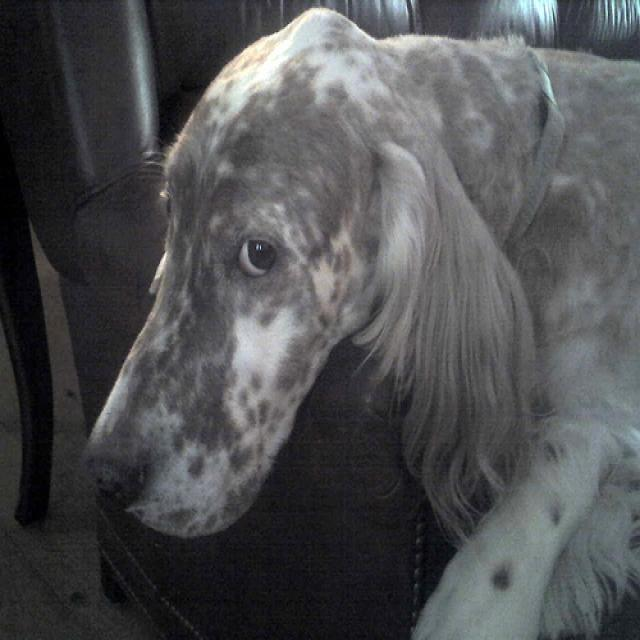dog-english_setter: (83, 2, 637, 637)
